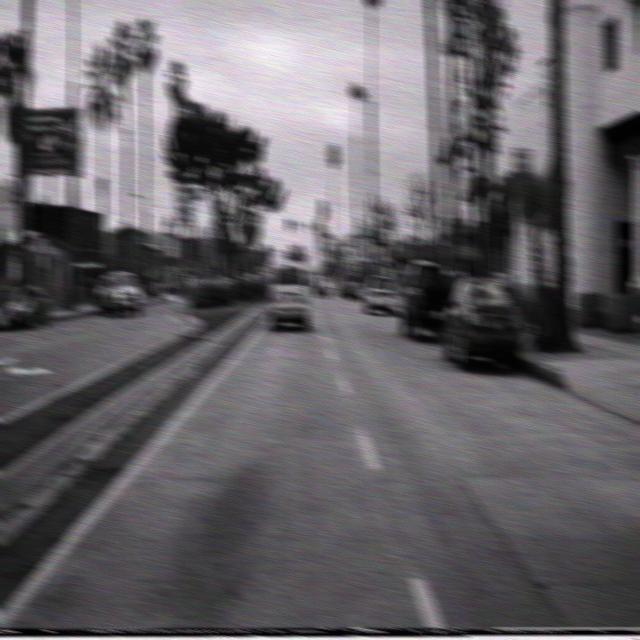speedLimit35: (172, 180, 195, 226)
